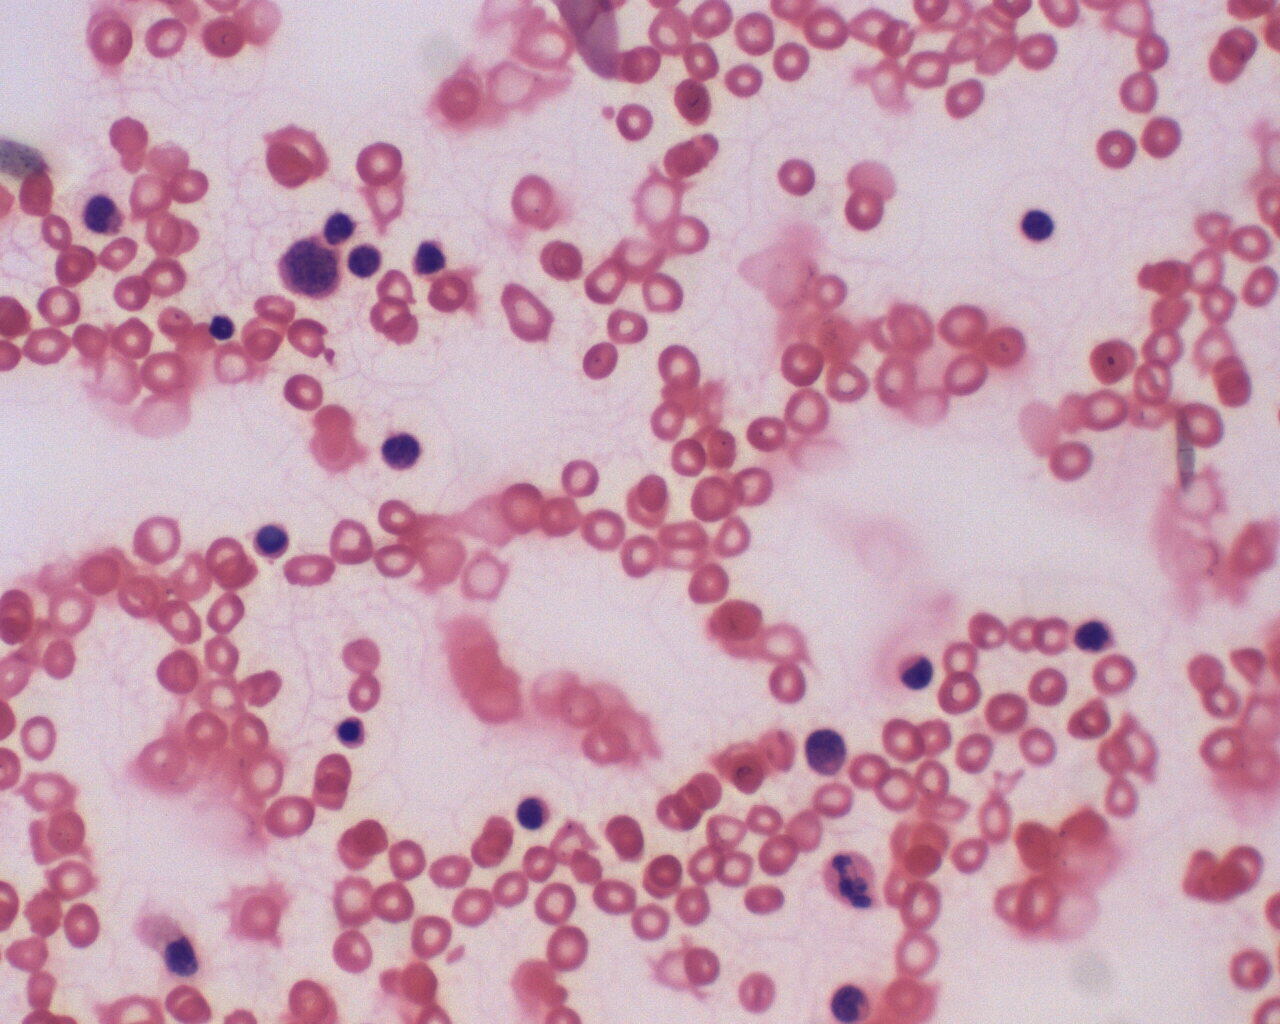lymph: (502, 784, 562, 839), (1013, 200, 1069, 249), (247, 517, 300, 562)
neutro: (823, 847, 890, 917)
